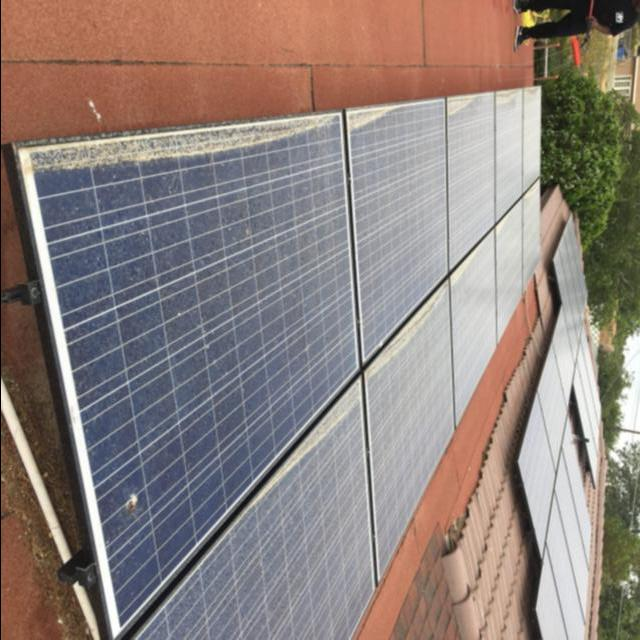soiled: (15, 82, 543, 640)
